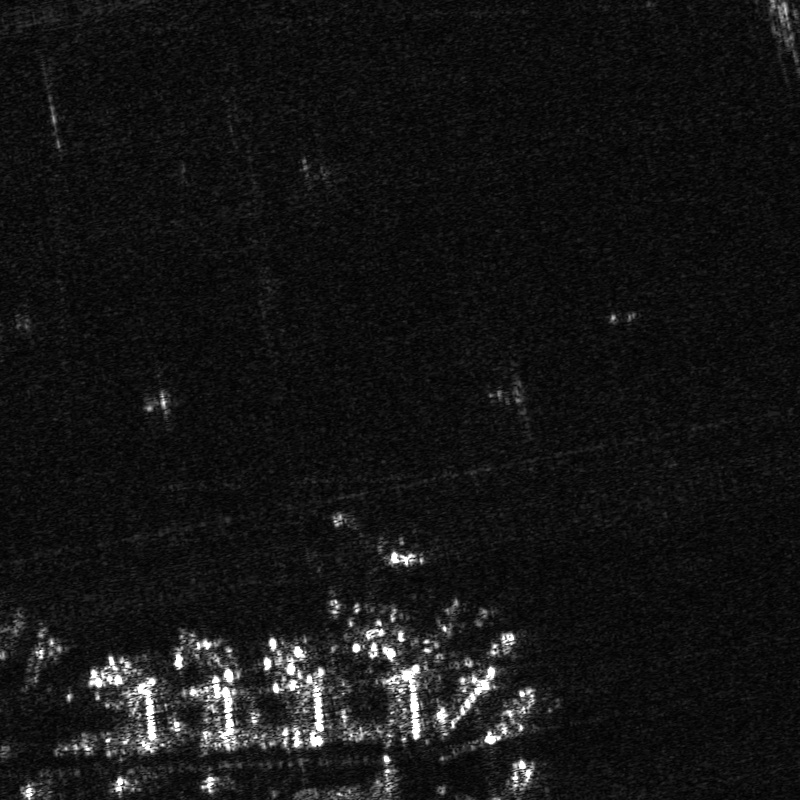A220: (325, 536, 427, 645)
